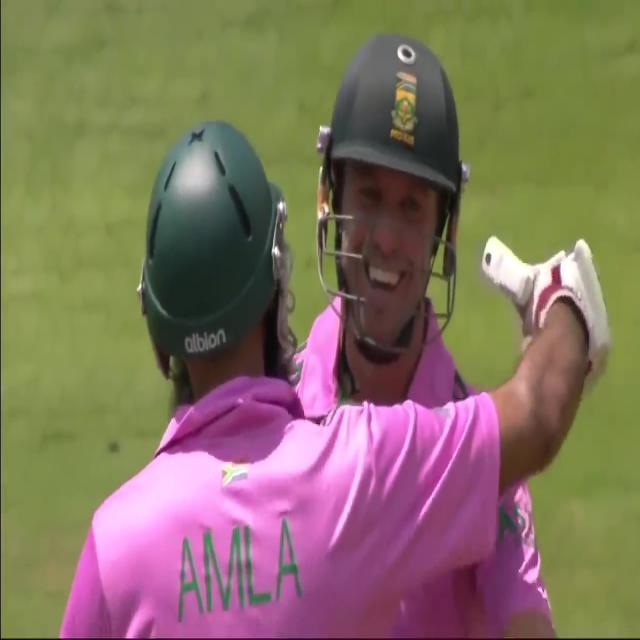Ball: (253, 12, 615, 638)
